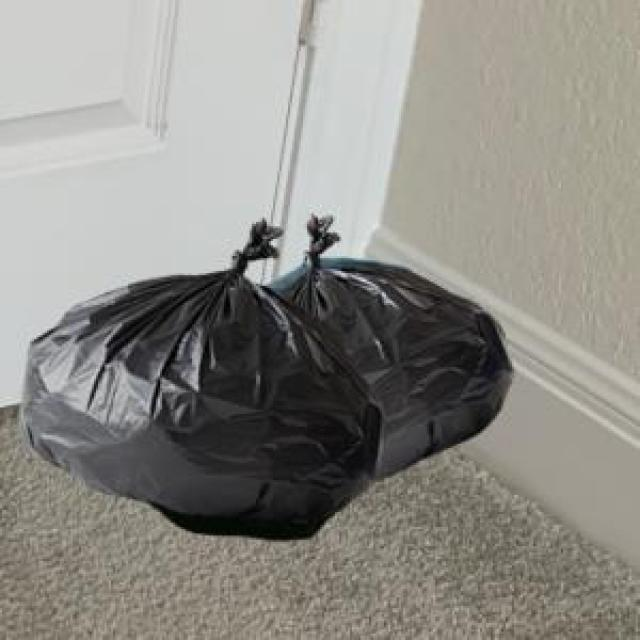waste: (21, 219, 511, 537)
